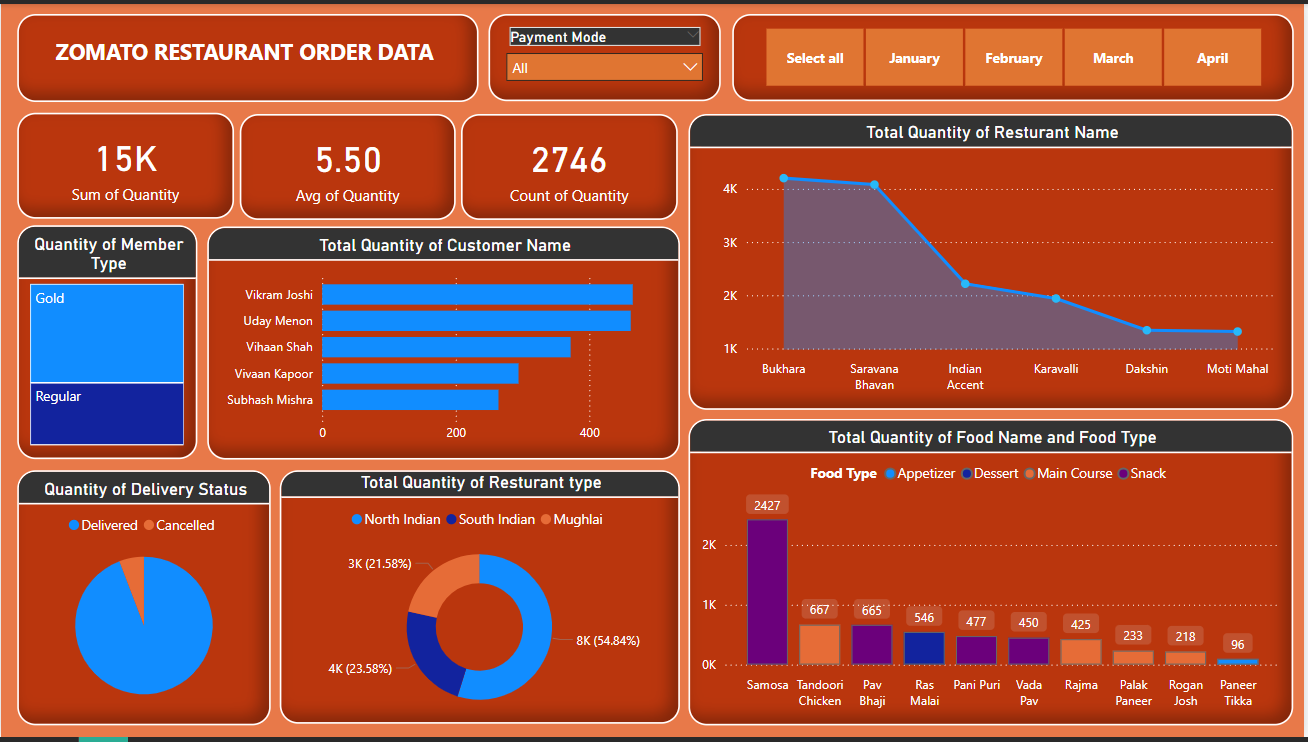

The dashboard page shown, as its layout file describes it:
{"tool":"powerbi","page":{"name":"Dashboard_1","canvas":[1280,720],"ordinal":0},"visuals":[{"type":"lineStackedColumnComboChart","title":"Total Quantity of Food Name and Food Type","fields":{"Category":["Food_Details.Food Name"],"Y":["Order_data 4 Months.quantity"],"Series":["Food_Details.Food_Type"]},"box":[674.9,407.4,593.9,300.6],"z":0},{"type":"clusteredBarChart","title":"Total Quantity of Customer Name","fields":{"Category":["Customer Details.customer_name"],"Y":["Order_data 4 Months.quantity"]},"box":[203,219,463.8,229],"z":1000},{"type":"donutChart","title":"Total Quantity of Resturant type","fields":{"Category":["Resturant_Details.Resturant_type"],"Y":["Order_data 4 Months.quantity"]},"box":[273.6,457.7,392.6,249.1],"z":2000},{"type":"areaChart","title":"Total Quantity of Resturant Name","fields":{"Category":["Resturant_Details.Resturant_Name"],"Y":["Order_data 4 Months.quantity"]},"box":[674.9,108,593.9,290],"z":3000},{"type":"slicer","fields":{"Values":["Order_data 4 Months.payment_method"]},"box":[478.5,9.8,228.2,85.9],"z":4000},{"type":"slicer","fields":{"Values":["Order_data 4 Months.orderDate.Variation.Date Hierarchy.Month"]},"box":[717.8,9.8,550.9,85.9],"z":5000},{"type":"textbox","box":[16,9.8,452.8,86],"z":6000},{"type":"treemap","title":" Quantity of Member Type","fields":{"Group":["Customer Details.member_Type"],"Values":["Order_data 4 Months.quantity"]},"box":[16,217.2,176.7,229.4],"z":7000},{"type":"pieChart","title":"Quantity of Delivery Status","fields":{"Category":["Order_data 4 Months.deliver_status"],"Y":["Order_data 4 Months.quantity"]},"box":[16,457.7,249.1,250.3],"z":8000},{"type":"card","fields":{"Values":["Order_data 4 Months.quantity"]},"box":[16,106.7,213,104.3],"z":9000},{"type":"card","fields":{"Values":["Order_data 4 Months.quantity"]},"box":[234,108,212.3,104.3],"z":10000},{"type":"card","fields":{"Values":["Order_data 4 Months.quantity"]},"box":[451.5,108,213,104.3],"z":11000}]}

Visuals, with their boxes in screenshot pixels (x1, y1, x2, y2), scaled from the page's 1280x720 canvas onto the 1308x742 screenshot:
"Total Quantity of Food Name and Food Type" lineStackedColumnComboChart: 690/420/1297/730
"Total Quantity of Customer Name" clusteredBarChart: 207/226/681/462
"Total Quantity of Resturant type" donutChart: 280/472/681/728
"Total Quantity of Resturant Name" areaChart: 690/111/1297/410
slicer - Order_data 4 Months.payment_method: 489/10/722/99
slicer - Order_data 4 Months.orderDate.Variation.Date Hierarchy.Month: 734/10/1296/99
textbox: 16/10/479/99
" Quantity of Member Type" treemap: 16/224/197/460
"Quantity of Delivery Status" pieChart: 16/472/271/730
card - Order_data 4 Months.quantity: 16/110/234/217
card - Order_data 4 Months.quantity: 239/111/456/219
card - Order_data 4 Months.quantity: 461/111/679/219
